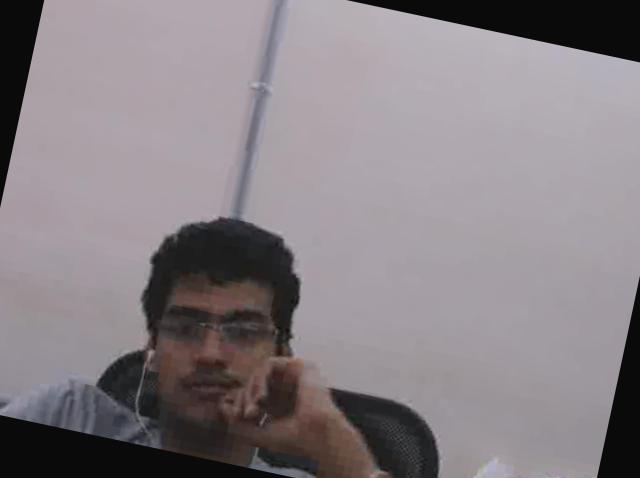bosan: (138, 262, 293, 440)
